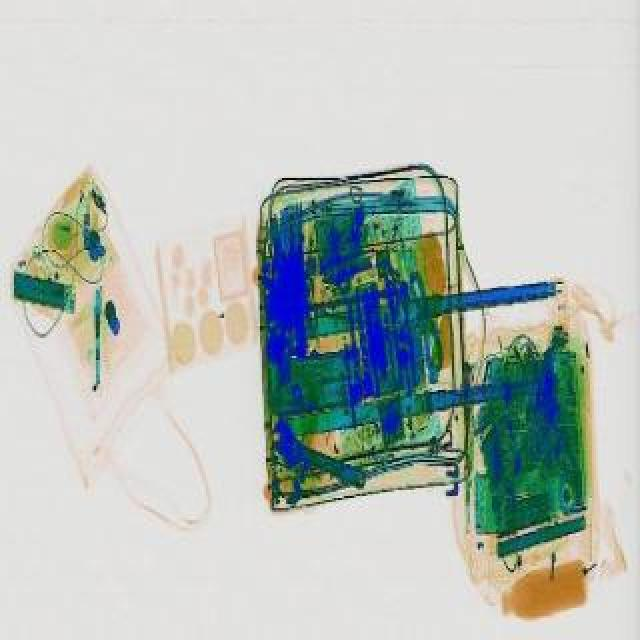scissors: (258, 414, 378, 496)
